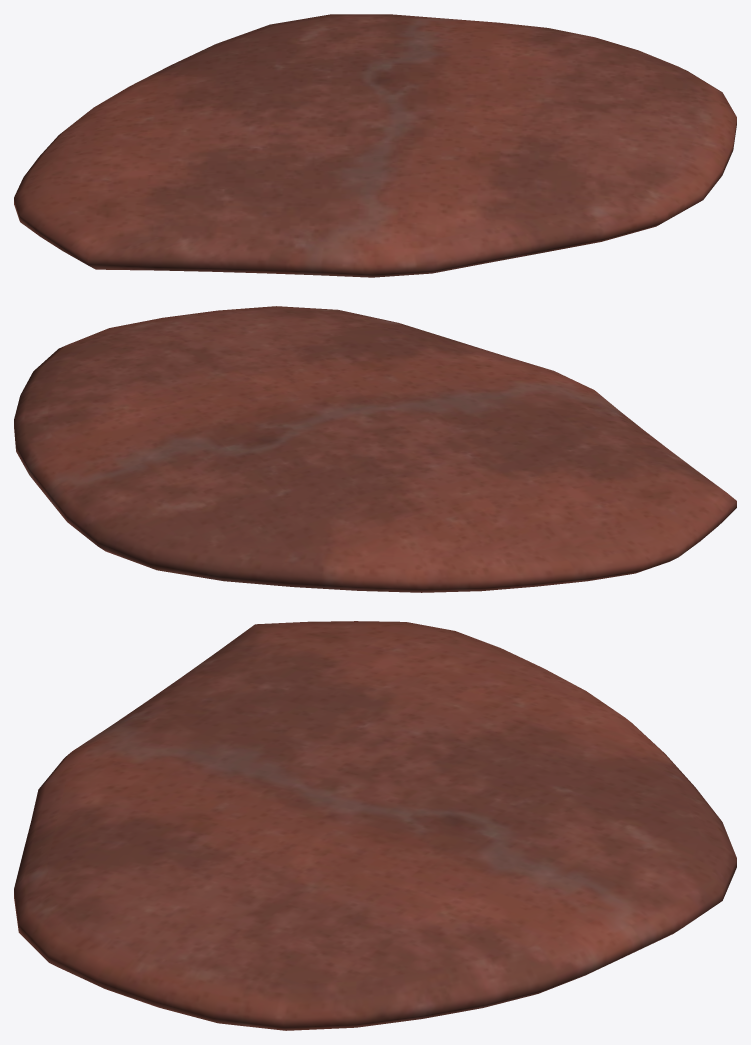
File: red_sandstone_03.glb
3 views of the same model, one above another, from view 1: azimuth 30°, elevation 25°; view 2: azimuth 150°, elevation 25°; view 3: azimuth 270°, elevation 25° (orthographic). The views are drawn at different scales.
Parts seen in each view (by area): view 1: red_sandstone_03; view 2: red_sandstone_03; view 3: red_sandstone_03.
Boxes of the visible parts, bbox=[...] form: red_sandstone_03: bbox=[14, 14, 736, 277]; red_sandstone_03: bbox=[14, 306, 736, 592]; red_sandstone_03: bbox=[14, 621, 736, 1030].
Bounding box in the file's own units: 0.0818 × 0.00799 × 0.0633.
1 material, 1 textured.
